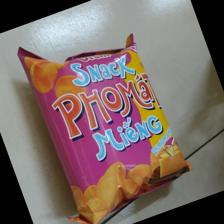Oishi_phomat: (17, 31, 194, 224)
